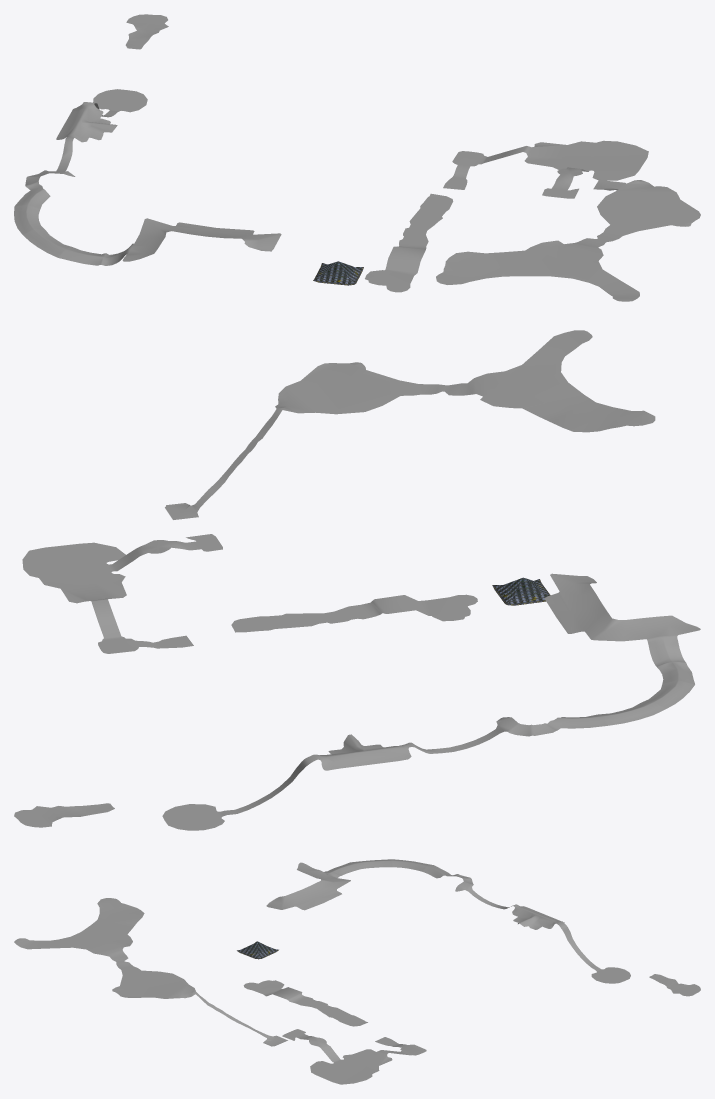
File: S_Bsp_5001_readable.FBX
The picture shows the model from 3 angles, top to bottom: view 1: azimuth 30°, elevation 25°; view 2: azimuth 150°, elevation 25°; view 3: azimuth 270°, elevation 25°; orthographic projection. The views are drawn at different scales.
Visible parts, largest first — view 1: S_Bsp_5001_3, S_Bsp_5001_1, S_Bsp_5001_2, S_Bsp_5001_5, S_Bsp_5001_0, S_Bsp_5001_4; view 2: S_Bsp_5001_3, S_Bsp_5001_1, S_Bsp_5001_2, S_Bsp_5001_5, S_Bsp_5001_0, S_Bsp_5001_4; view 3: S_Bsp_5001_3, S_Bsp_5001_1, S_Bsp_5001_2, S_Bsp_5001_5, S_Bsp_5001_0, S_Bsp_5001_4.
Boxes of the visible parts, <box> form: S_Bsp_5001_3: <box>436,180,700,301</box>; S_Bsp_5001_1: <box>14,89,281,265</box>; S_Bsp_5001_2: <box>443,140,648,198</box>; S_Bsp_5001_5: <box>365,193,453,292</box>; S_Bsp_5001_0: <box>125,14,168,49</box>; S_Bsp_5001_4: <box>313,261,363,285</box>; S_Bsp_5001_3: <box>165,330,655,519</box>; S_Bsp_5001_1: <box>162,573,700,830</box>; S_Bsp_5001_2: <box>22,534,222,653</box>; S_Bsp_5001_5: <box>231,594,477,632</box>; S_Bsp_5001_0: <box>14,803,114,827</box>; S_Bsp_5001_4: <box>492,577,550,605</box>; S_Bsp_5001_3: <box>14,898,287,1046</box>; S_Bsp_5001_1: <box>266,859,630,983</box>; S_Bsp_5001_2: <box>282,1029,426,1084</box>; S_Bsp_5001_5: <box>243,980,367,1026</box>; S_Bsp_5001_0: <box>649,974,700,996</box>; S_Bsp_5001_4: <box>237,941,278,959</box>.
Size of the model in its own units: 36722 by 5928 by 52724.
